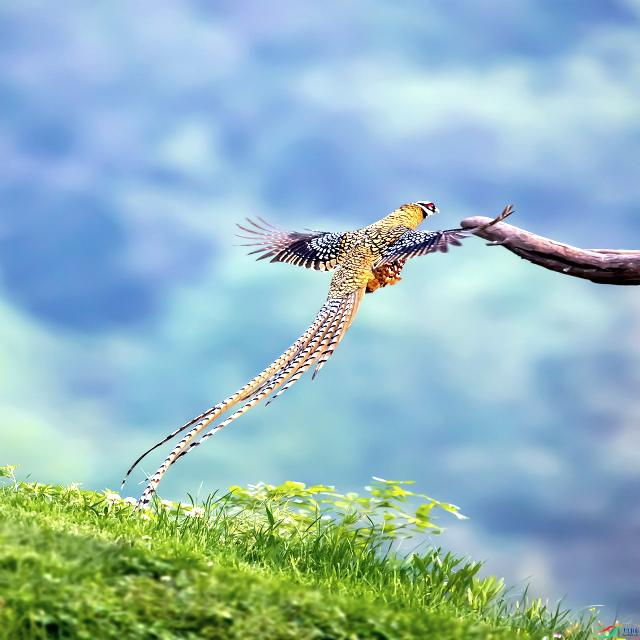Reeves-s Pheasant: (120, 287, 366, 515)
